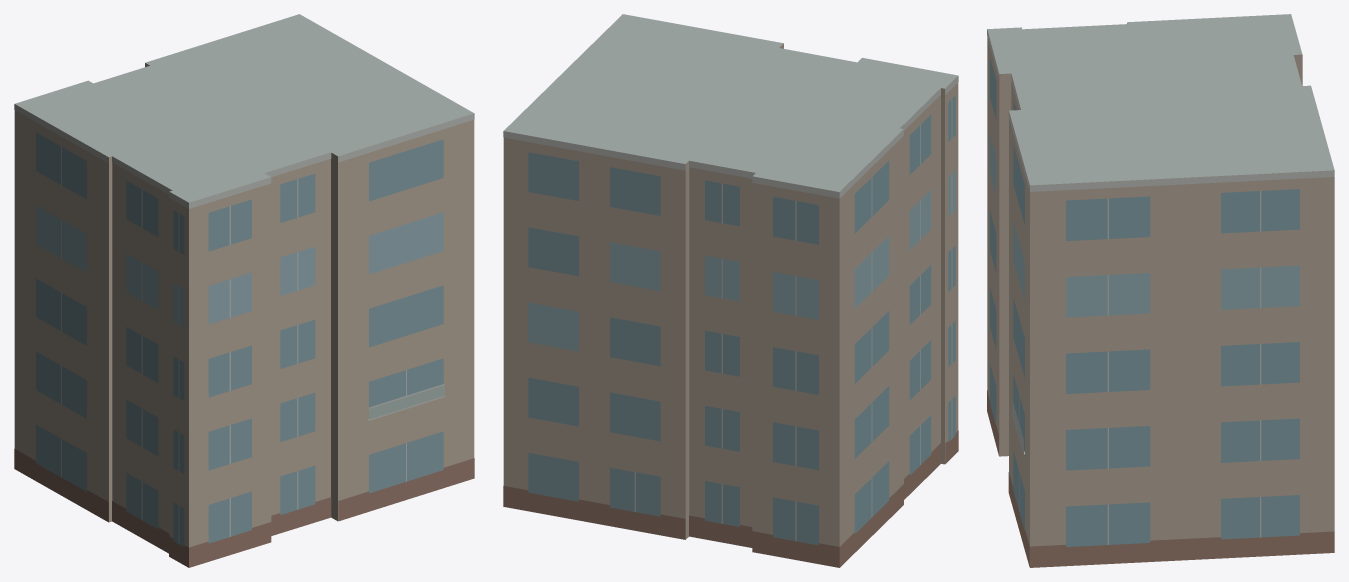
The model's file is survey-upis-32576577.glb.
The picture shows the model from 3 angles, left to right: view 1: azimuth 30°, elevation 25°; view 2: azimuth 150°, elevation 25°; view 3: azimuth 270°, elevation 25°; orthographic projection. The views are drawn at different scales.
Visible parts, largest first — view 1: survey-upis-32576577.tmp; view 2: survey-upis-32576577.tmp; view 3: survey-upis-32576577.tmp.
Boxes of the visible parts, x1=… form: survey-upis-32576577.tmp: x1=14, y1=14, x2=474, y2=567; survey-upis-32576577.tmp: x1=503, y1=14, x2=958, y2=567; survey-upis-32576577.tmp: x1=987, y1=14, x2=1334, y2=567.
Bounding box in the file's own units: 13.66 × 14.2 × 11.7.
